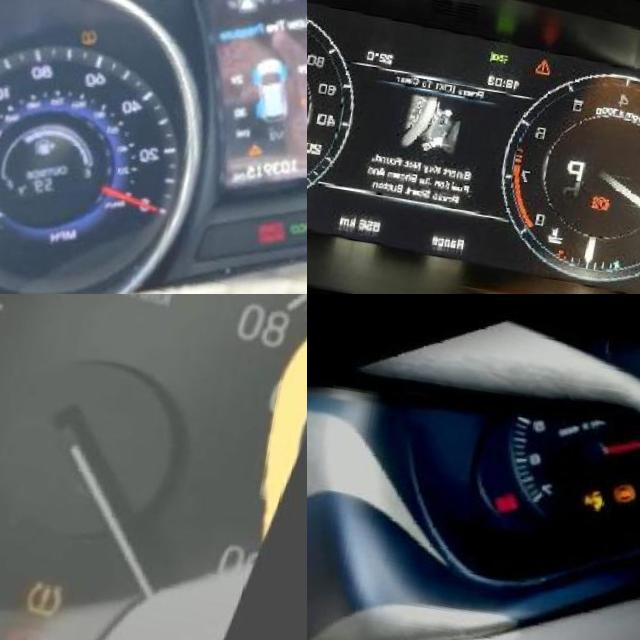High Engine Coolant Temperature: (563, 212, 582, 230)
